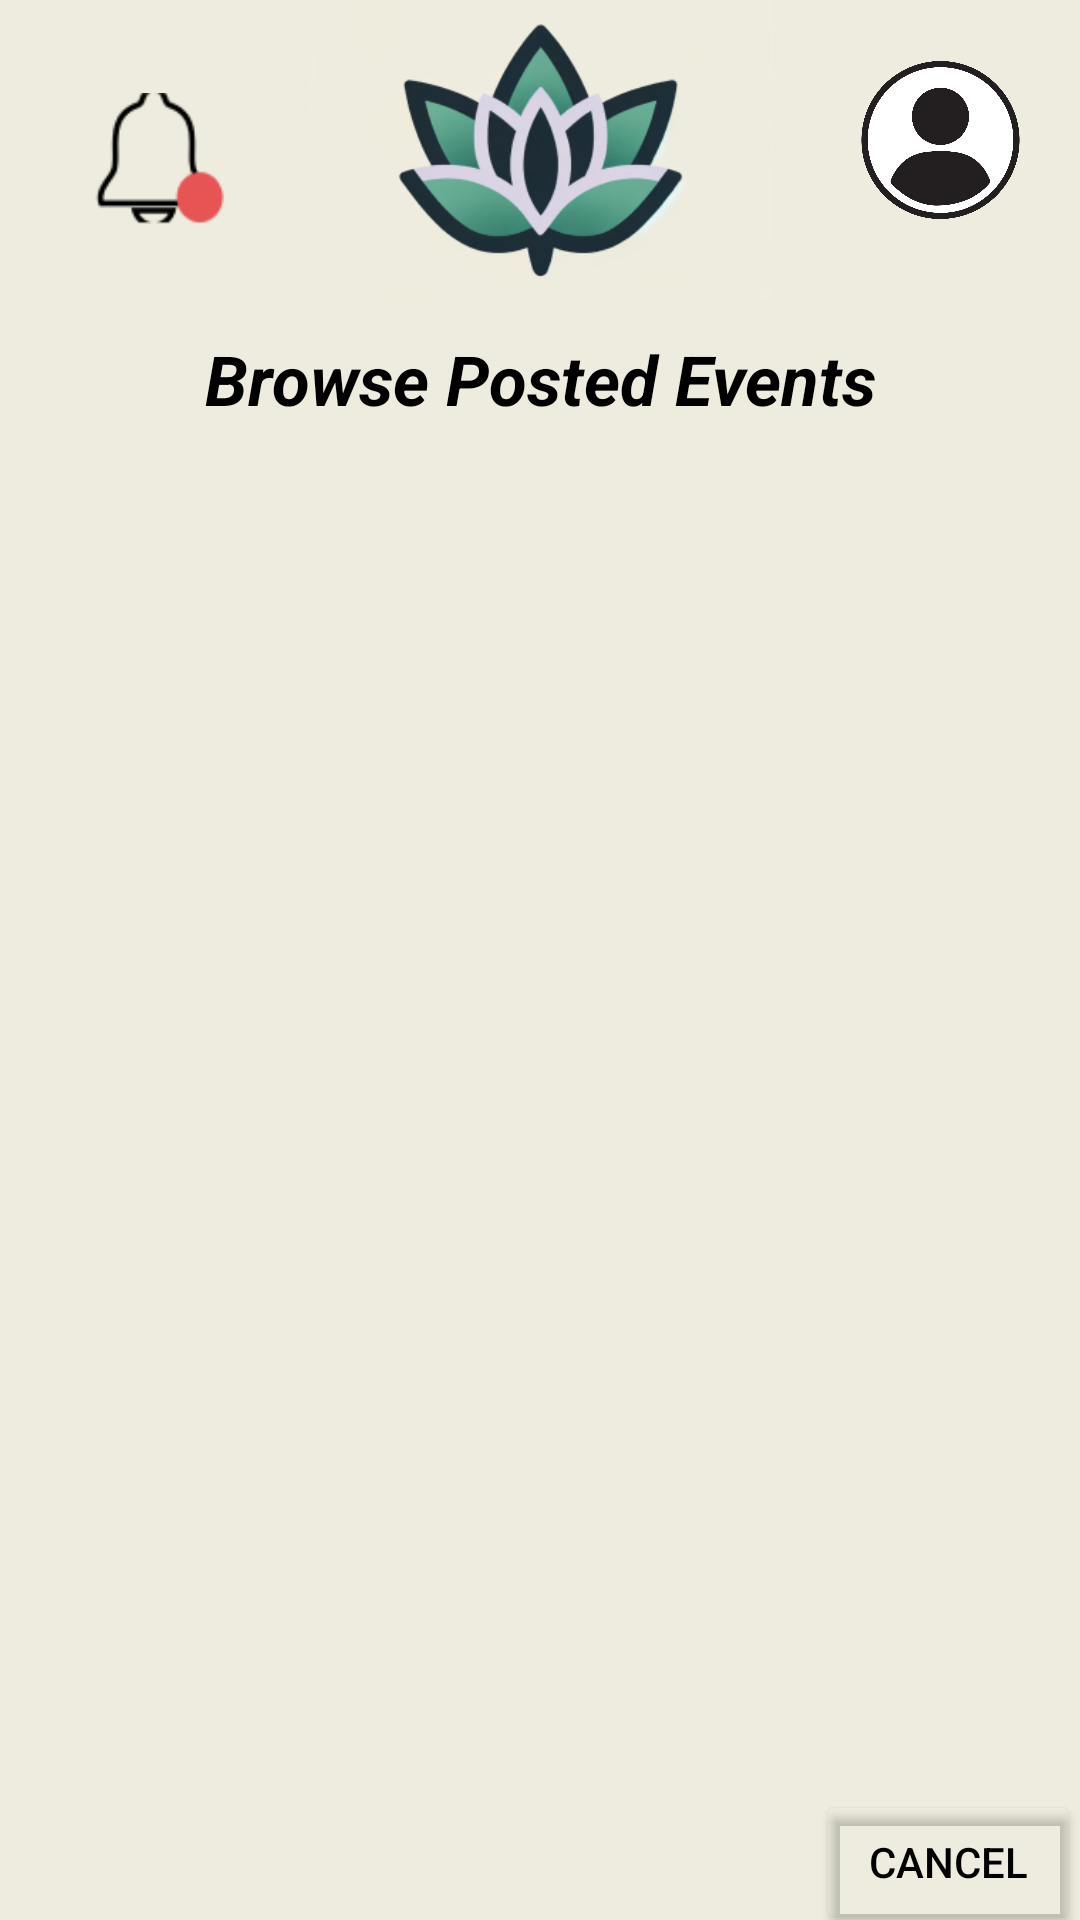

Named icons in this screenshot (1080px x 1920px) and their bounding boxes, (x1, y1, x2, y2):
notifbell: (96, 93, 224, 224)
